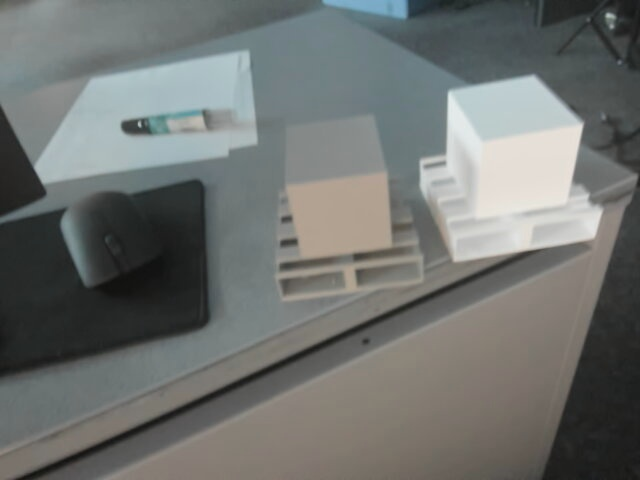grey pallet: (245, 110, 433, 302)
white pallet: (411, 71, 605, 263)
